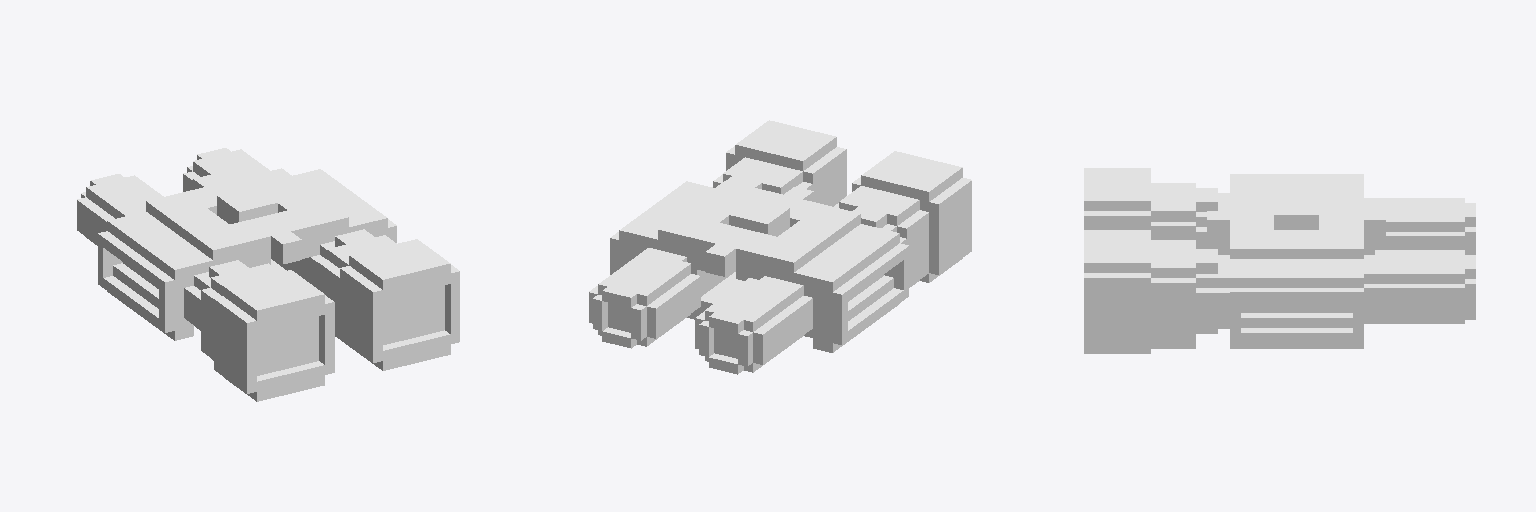
File: binoculars.obj
3 views of the same model, side by side, from view 1: azimuth 30°, elevation 25°; view 2: azimuth 150°, elevation 25°; view 3: azimuth 270°, elevation 25° (orthographic).
Visible parts, largest first — view 1: object 1; view 2: object 1; view 3: object 1.
Part boxes in pixels (left/top/right/bottom): object 1: left=77, top=148, right=459, bottom=401; object 1: left=589, top=120, right=971, bottom=374; object 1: left=1084, top=168, right=1475, bottom=353.
Size of the model in its own units: 2.4 by 1 by 3.5.